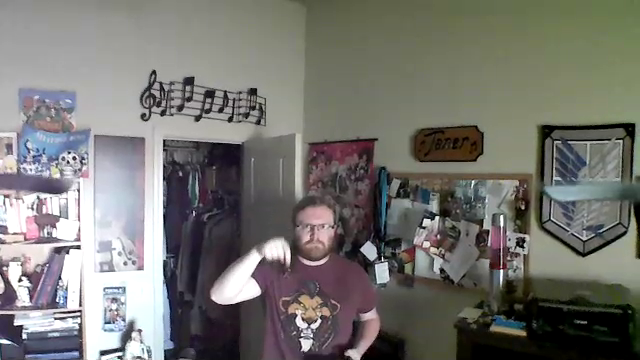down: (251, 228, 294, 271)
